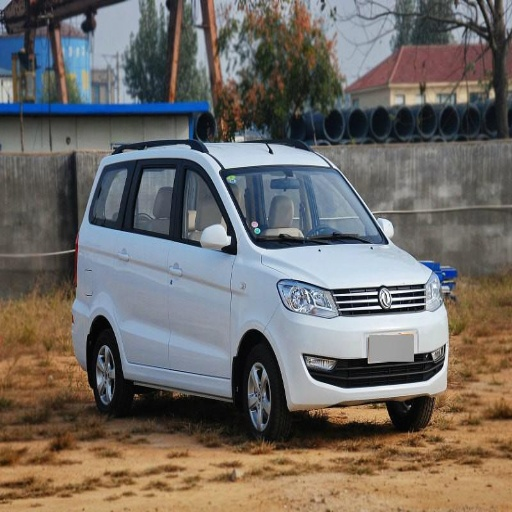front_bumper: (272, 274, 449, 406)
front_right_door: (168, 159, 238, 378)
front_right_light: (278, 280, 339, 317)
hood: (266, 243, 432, 290)
